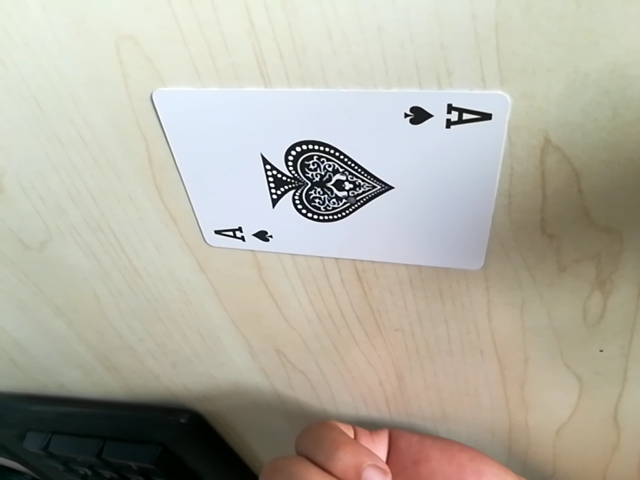ht a: (398, 95, 497, 136), (207, 224, 275, 249)
